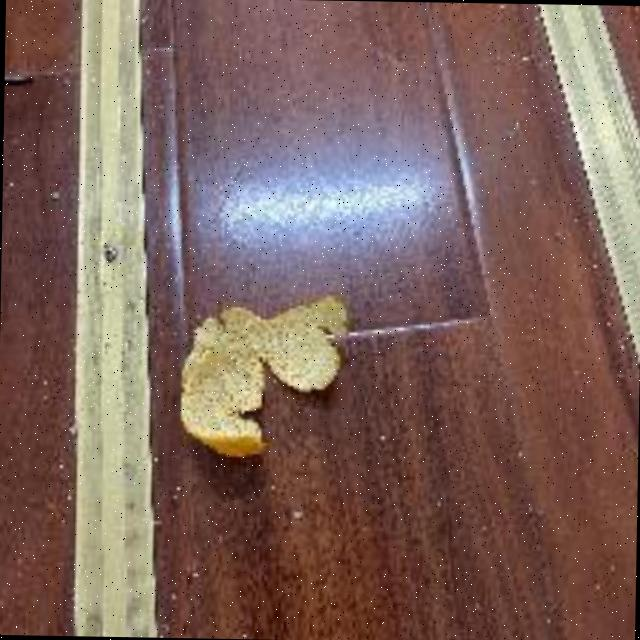orange-peel: (174, 286, 352, 464)
